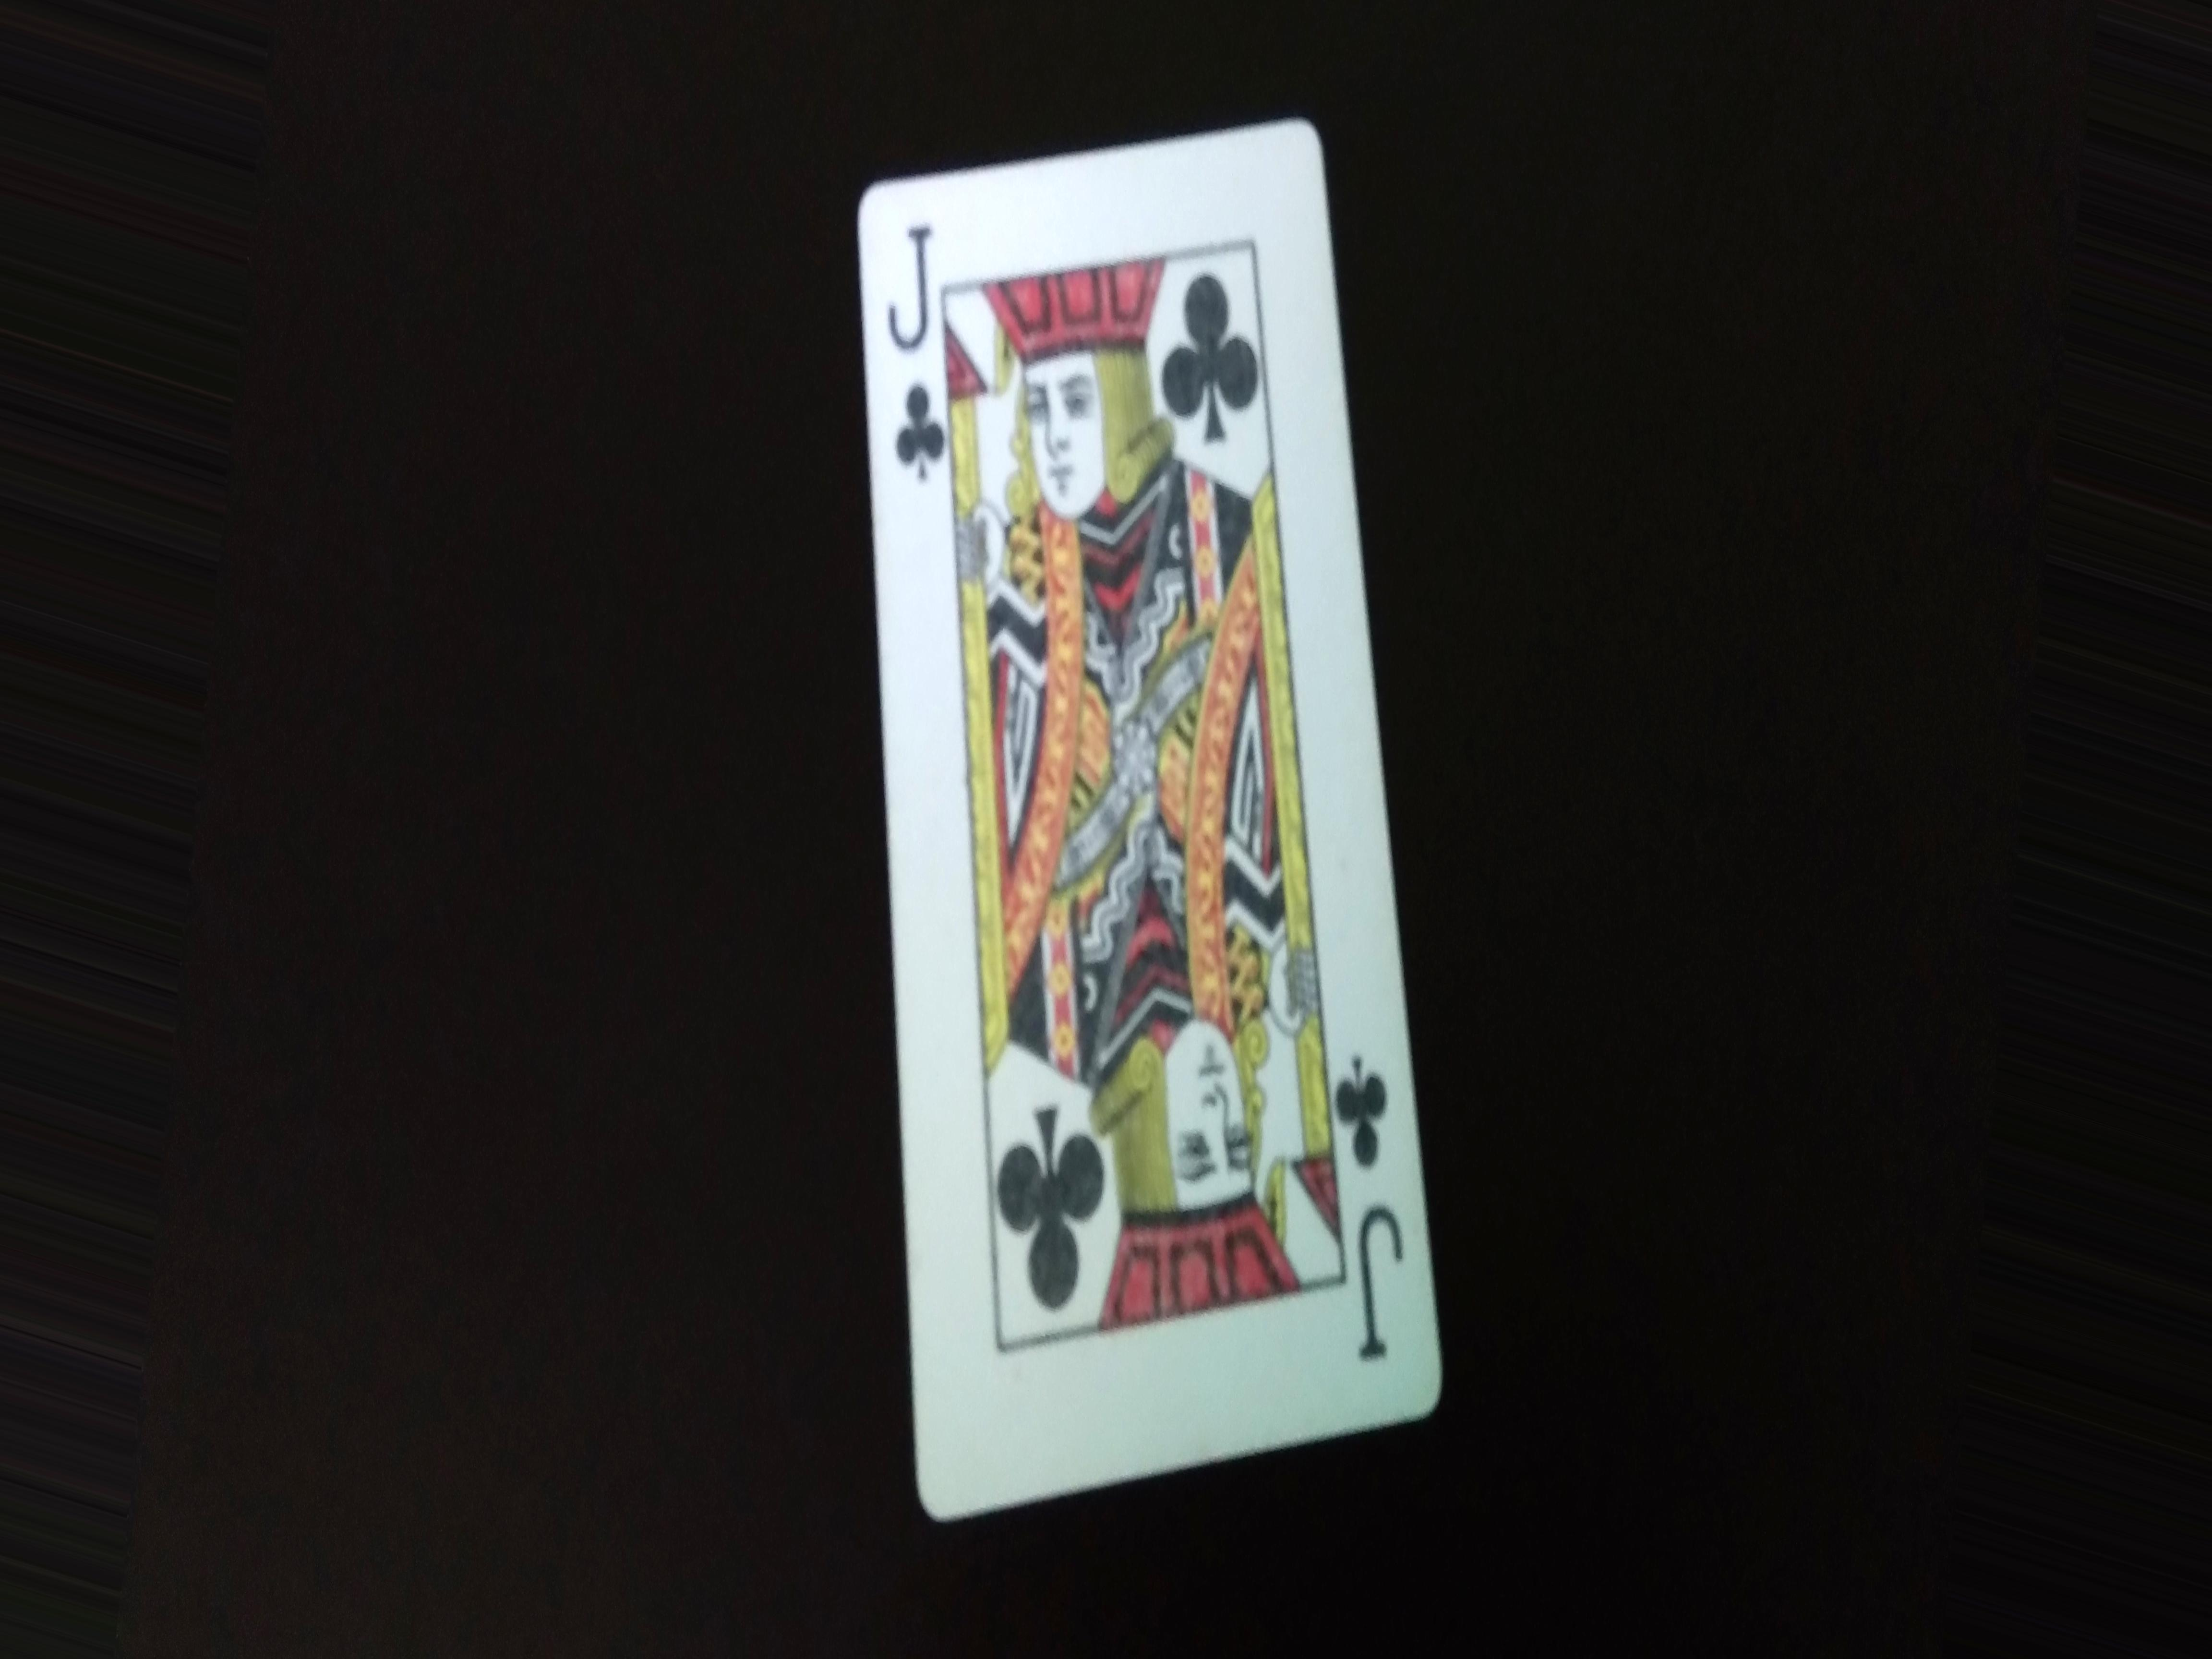JC: (885, 199, 946, 511)
